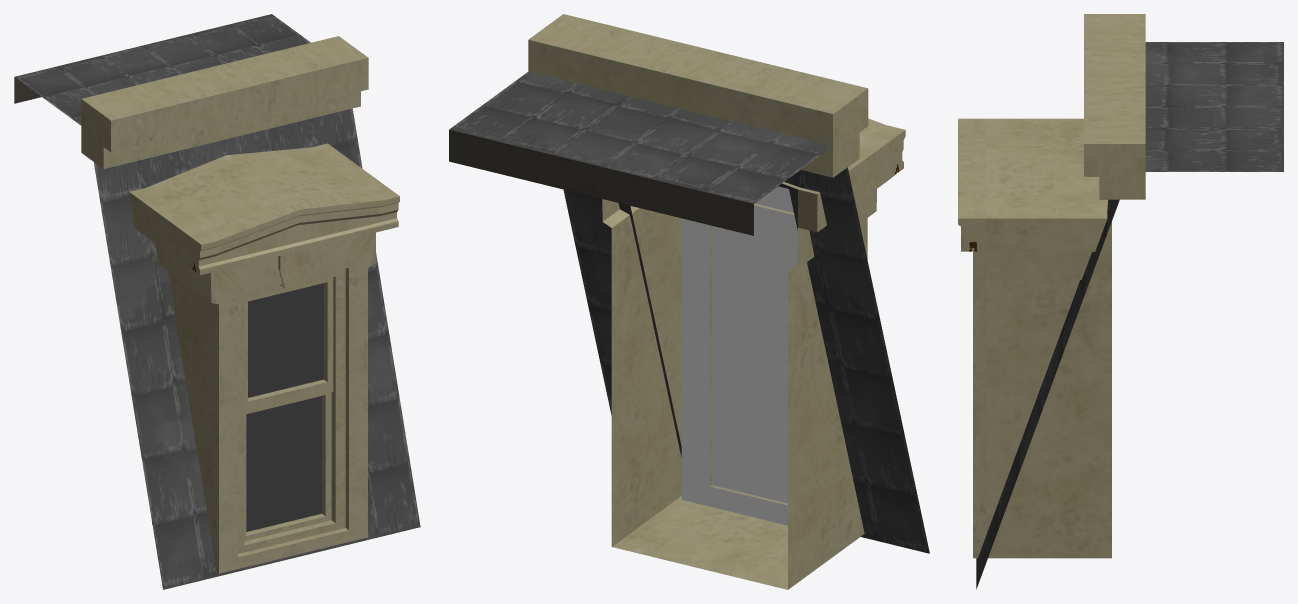
The model's file is roof_slatecornice_window_1.glb.
The picture shows the model from 3 angles, left to right: view 1: azimuth 30°, elevation 25°; view 2: azimuth 150°, elevation 25°; view 3: azimuth 270°, elevation 25°; orthographic projection. The views are drawn at different scales.
Parts seen in each view (by area): view 1: Roof_SlateCornice_Window_1; view 2: Roof_SlateCornice_Window_1; view 3: Roof_SlateCornice_Window_1.
Part boxes in pixels (x1=…): Roof_SlateCornice_Window_1: x1=14, y1=14, x2=420, y2=589; Roof_SlateCornice_Window_1: x1=449, y1=14, x2=929, y2=589; Roof_SlateCornice_Window_1: x1=958, y1=14, x2=1283, y2=589.
Bounding box in the file's own units: 2 × 3.2 × 2.12.
5 materials, 3 textured.
